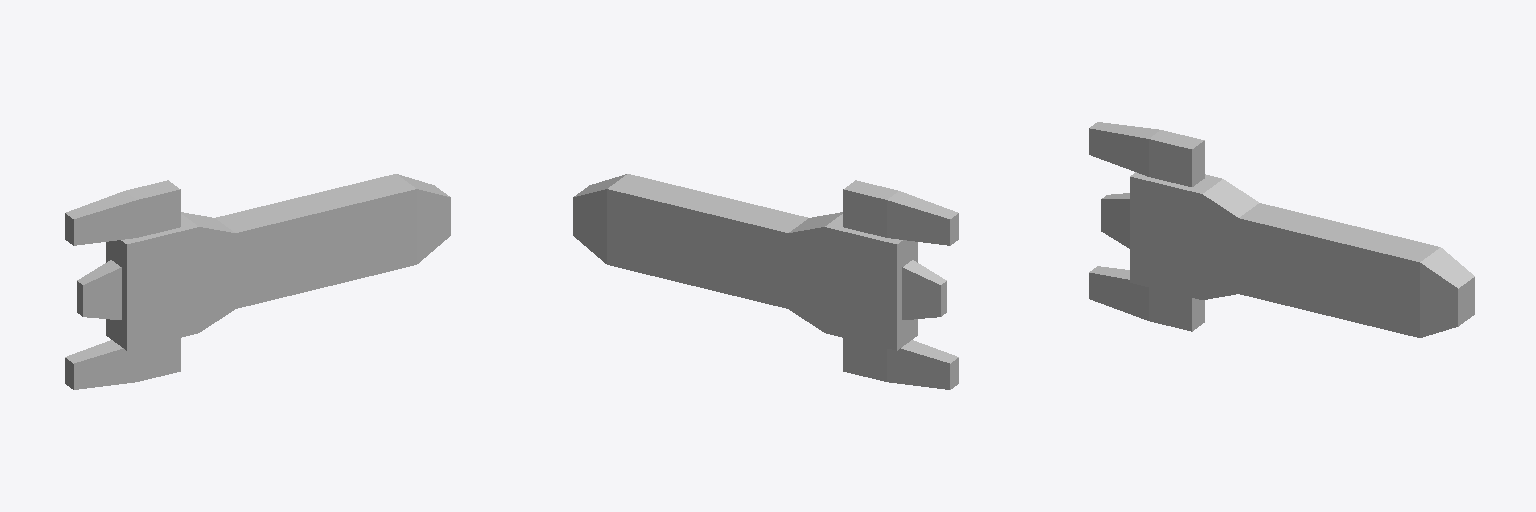
File: ship1.obj
3 views of the same model, side by side, from view 1: azimuth 30°, elevation 25°; view 2: azimuth 150°, elevation 25°; view 3: azimuth 330°, elevation 25° (orthographic).
Visible parts, largest first — view 1: Cube; view 2: Cube; view 3: Cube.
Part boxes in pixels (x1,y1,x2,y2): Cube: (65, 174, 450, 389); Cube: (573, 174, 958, 389); Cube: (1089, 122, 1474, 337).
Bounding box in the file's own units: 5.15 × 2.4 × 0.5.